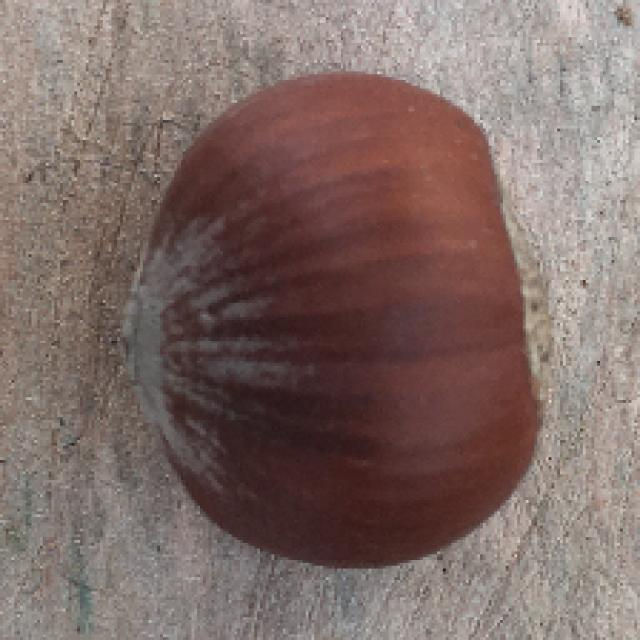DamagedHazelnut: (123, 71, 551, 569)
